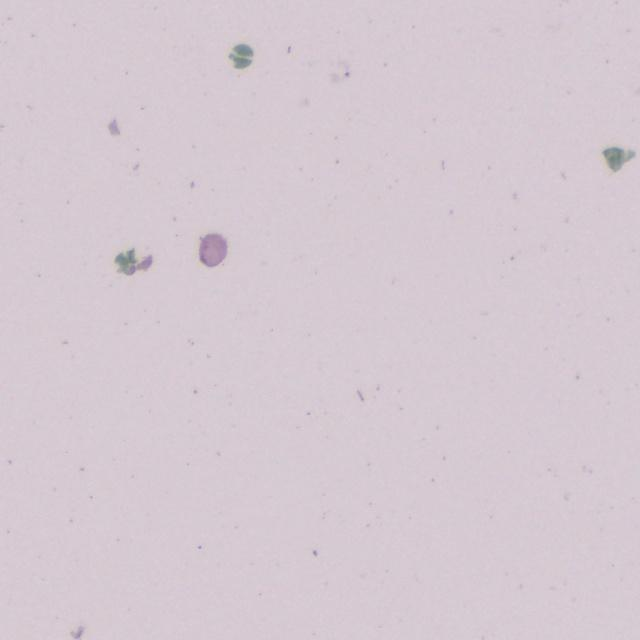intermediate: (199, 234, 226, 266)
non_viable: (228, 44, 253, 68)
